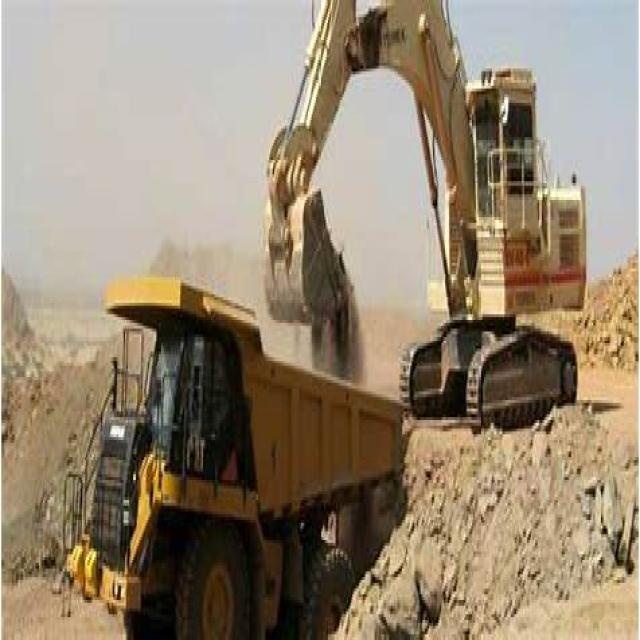dump_truck: (59, 263, 394, 637)
excavator: (249, 3, 628, 457)
